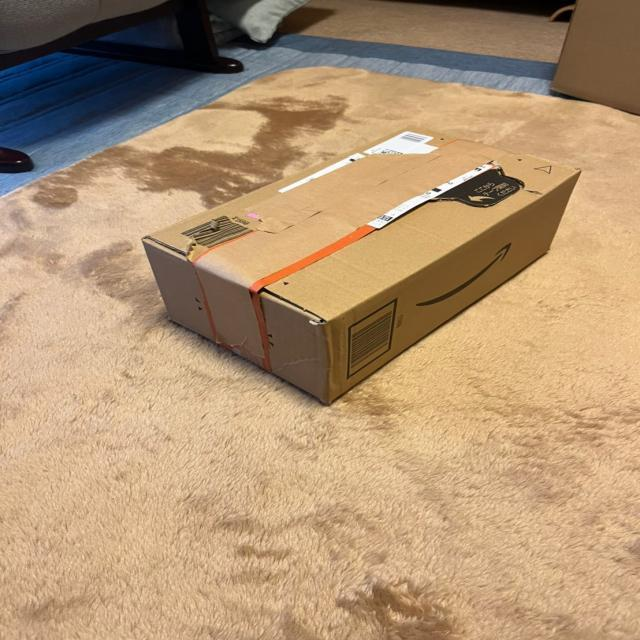box: (132, 125, 594, 411)
